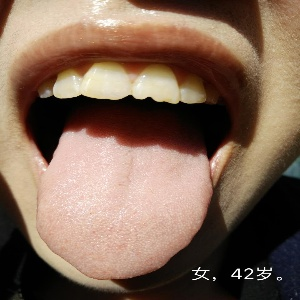st: (35, 127, 216, 280)
